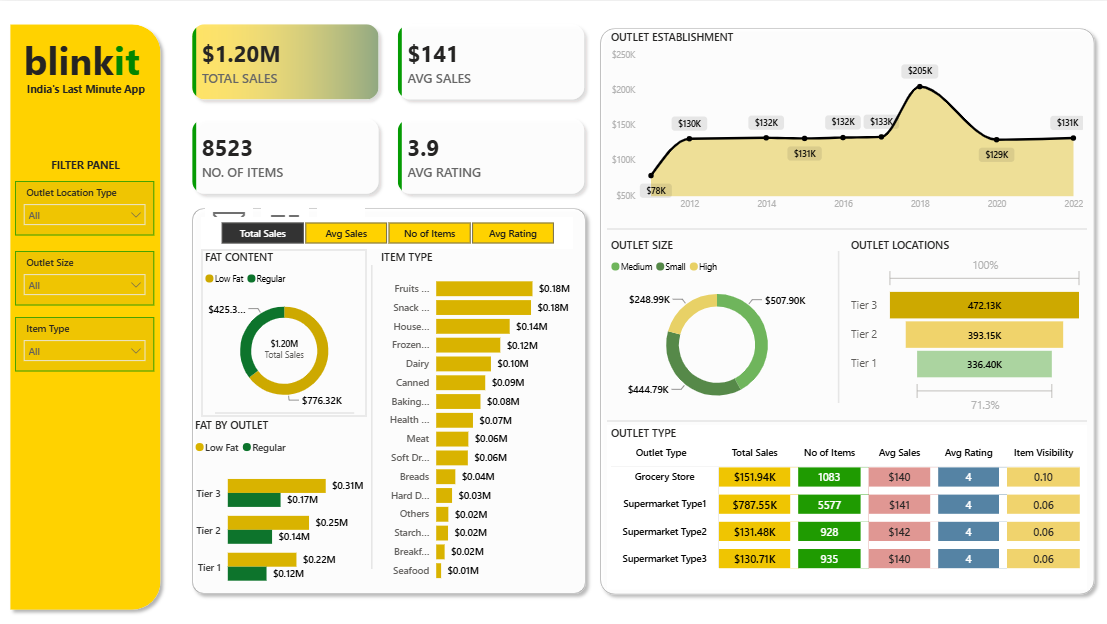

The dashboard page shown, as its layout file describes it:
{"tool":"powerbi","page":{"name":"Page 1","canvas":[1400,800],"ordinal":0},"visuals":[{"type":"shape","box":[10,20,206,750],"z":0},{"type":"textbox","box":[18,36,182,76],"z":1000},{"type":"textbox","box":[28,96,172,30],"z":2000},{"type":"cardVisual","fields":{"Data":["BlinkIT Grocery Data.Total Sales","BlinkIT Grocery Data.Avg Sales","BlinkIT Grocery Data.No of Items","BlinkIT Grocery Data.Avg Rating"]},"box":[218,0,548,270],"z":3000},{"type":"shape","box":[237.5,250,510,500],"z":4000},{"type":"donutChart","title":"FAT CONTENT","fields":{"Y":["BlinkIT Grocery Data.Total Sales"],"Category":["BlinkIT Grocery Data.Item Fat Content"]},"box":[258,310,208,210],"z":5000},{"type":"slicer","fields":{"Values":["Metrics.Metrics"]},"box":[258.3,270,465,40],"z":6000},{"type":"cardVisual","fields":{"Data":["BlinkIT Grocery Data.Total Sales"]},"box":[332,416,124,54],"z":7000},{"type":"clusteredBarChart","title":"FAT BY OUTLET","fields":{"Y":["BlinkIT Grocery Data.Total Sales"],"Category":["BlinkIT Grocery Data.Outlet Location Type"],"Series":["BlinkIT Grocery Data.Item Fat Content"]},"box":[246,520,220,230],"z":8000},{"type":"shape","box":[274,510,174,10],"z":9000},{"type":"shape","box":[466,330,12,380],"z":10000},{"type":"barChart","title":"ITEM TYPE","fields":{"Y":["BlinkIT Grocery Data.Total Sales"],"Category":["BlinkIT Grocery Data.Item Type"]},"box":[478,310,246,426],"z":11000},{"type":"shape","box":[748,24,636,726],"z":12000},{"type":"lineChart","title":"OUTLET ESTABLISHMENT","fields":{"Y":["BlinkIT Grocery Data.Total Sales"],"Category":["BlinkIT Grocery Data.Outlet Establishment Year"]},"box":[766,36,600,236],"z":13000},{"type":"shape","box":[766,280,600,10],"z":14000},{"type":"donutChart","title":"OUTLET SIZE","fields":{"Y":["BlinkIT Grocery Data.Total Sales"],"Category":["BlinkIT Grocery Data.Outlet Size"]},"box":[766,294,275,225],"z":15000},{"type":"shape","box":[1042,312,24,190],"z":16000},{"type":"funnel","title":"OUTLET LOCATIONS","fields":{"Y":["Sum(BlinkIT Grocery Data.Sales)"],"Category":["BlinkIT Grocery Data.Outlet Location Type"]},"box":[1066,294,300,226],"z":17000},{"type":"shape","box":[766,520,600,10],"z":18000},{"type":"pivotTable","title":"OUTLET TYPE","fields":{"Rows":["BlinkIT Grocery Data.Outlet Type"],"Values":["BlinkIT Grocery Data.Total Sales","BlinkIT Grocery Data.No of Items","BlinkIT Grocery Data.Avg Sales","BlinkIT Grocery Data.Avg Rating","Avg(BlinkIT Grocery Data.Item Visibility)"]},"box":[766,530,600,206],"z":19000},{"type":"slicer","fields":{"Values":["BlinkIT Grocery Data.Outlet Location Type"]},"box":[26,226,174,68],"z":20000},{"type":"slicer","fields":{"Values":["BlinkIT Grocery Data.Outlet Size"]},"box":[26,312,174,68],"z":21000},{"type":"slicer","fields":{"Values":["BlinkIT Grocery Data.Item Type"]},"box":[26,396,174,68],"z":22000},{"type":"textbox","box":[56,190,116,36],"z":22001}]}

Visuals, with their boxes in screenshot pixels (x1, y1, x2, y2), scaled from the page's 1400x800 canvas onto the 1107x624 screenshot:
shape: bbox=(8, 16, 171, 601)
textbox: bbox=(14, 28, 158, 87)
textbox: bbox=(22, 75, 158, 98)
cardVisual - BlinkIT Grocery Data.Total Sales x BlinkIT Grocery Data.Avg Sales: bbox=(172, 0, 606, 211)
shape: bbox=(188, 195, 591, 585)
"FAT CONTENT" donutChart: bbox=(204, 242, 368, 406)
slicer - Metrics.Metrics: bbox=(204, 211, 572, 242)
cardVisual - BlinkIT Grocery Data.Total Sales: bbox=(263, 324, 361, 367)
"FAT BY OUTLET" clusteredBarChart: bbox=(195, 406, 368, 585)
shape: bbox=(217, 398, 354, 406)
shape: bbox=(368, 257, 378, 554)
"ITEM TYPE" barChart: bbox=(378, 242, 572, 574)
shape: bbox=(591, 19, 1094, 585)
"OUTLET ESTABLISHMENT" lineChart: bbox=(606, 28, 1080, 212)
shape: bbox=(606, 218, 1080, 226)
"OUTLET SIZE" donutChart: bbox=(606, 229, 823, 405)
shape: bbox=(824, 243, 843, 392)
"OUTLET LOCATIONS" funnel: bbox=(843, 229, 1080, 406)
shape: bbox=(606, 406, 1080, 413)
"OUTLET TYPE" pivotTable: bbox=(606, 413, 1080, 574)
slicer - BlinkIT Grocery Data.Outlet Location Type: bbox=(21, 176, 158, 229)
slicer - BlinkIT Grocery Data.Outlet Size: bbox=(21, 243, 158, 296)
slicer - BlinkIT Grocery Data.Item Type: bbox=(21, 309, 158, 362)
textbox: bbox=(44, 148, 136, 176)
